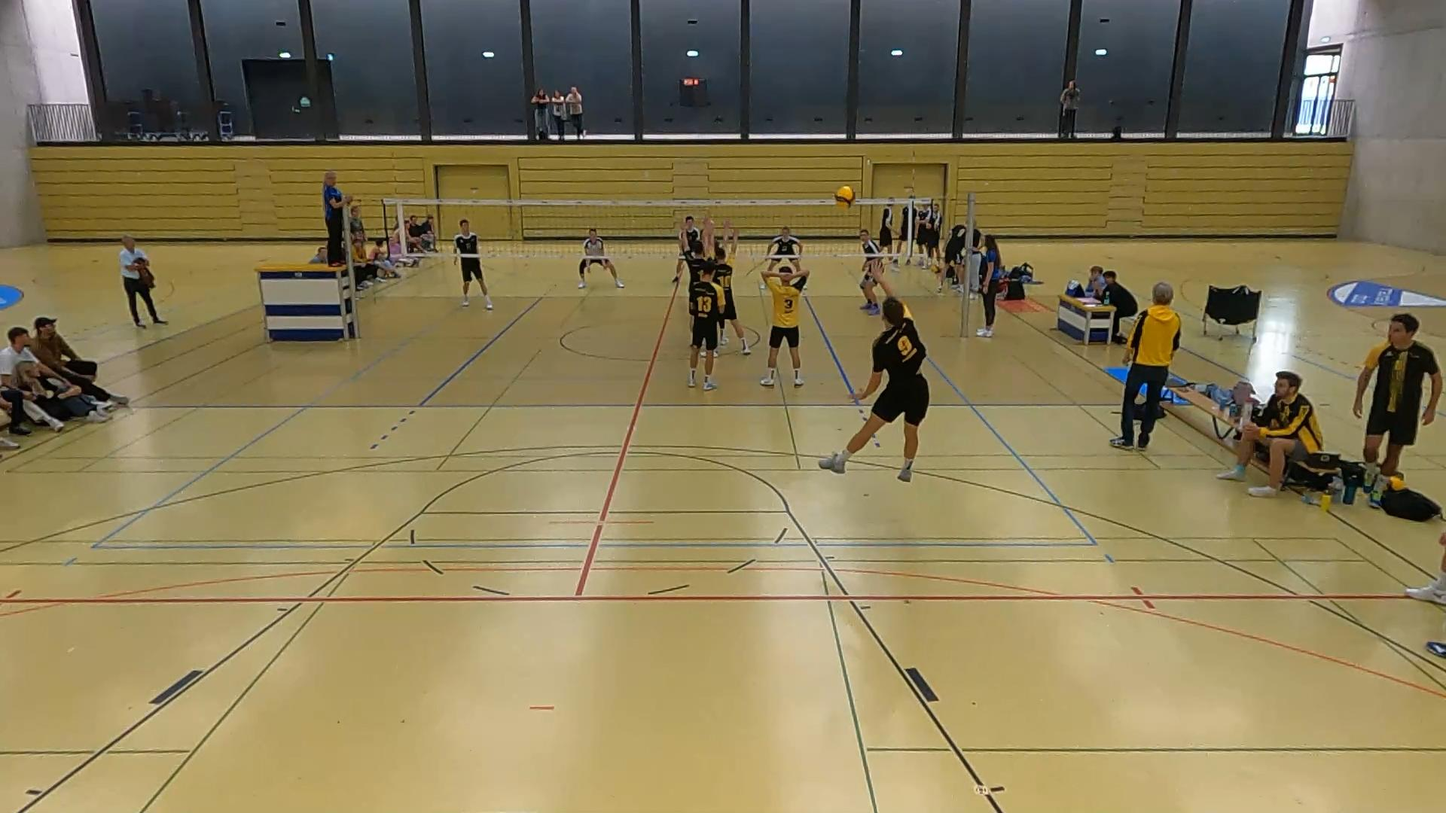battuta: (806, 270, 942, 486)
